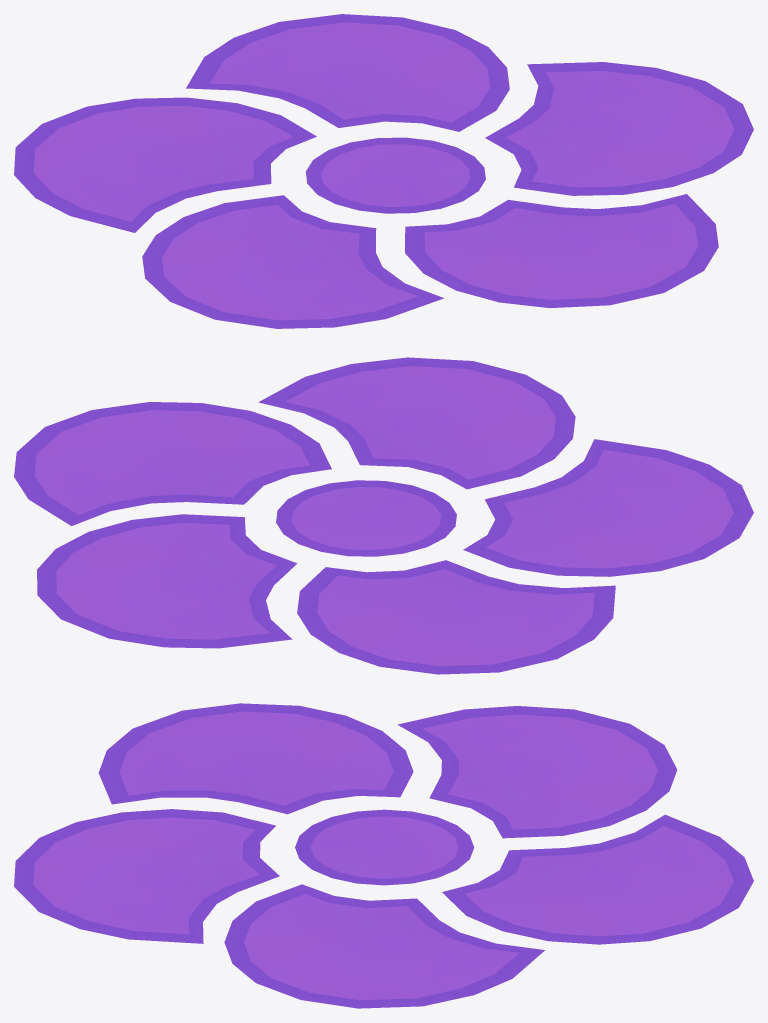
Rendered from top_fan.fbx.
The picture shows the model from 3 angles, top to bottom: view 1: azimuth 30°, elevation 25°; view 2: azimuth 150°, elevation 25°; view 3: azimuth 270°, elevation 25°; orthographic projection.
Parts seen in each view (by area): view 1: top_fan; view 2: top_fan; view 3: top_fan.
Part boxes in pixels (x1,y1,x2,y2): top_fan: (14, 14, 753, 328); top_fan: (14, 357, 753, 674); top_fan: (14, 703, 753, 1008).
Size of the model in its own units: 3.77 by 0 by 3.86.
